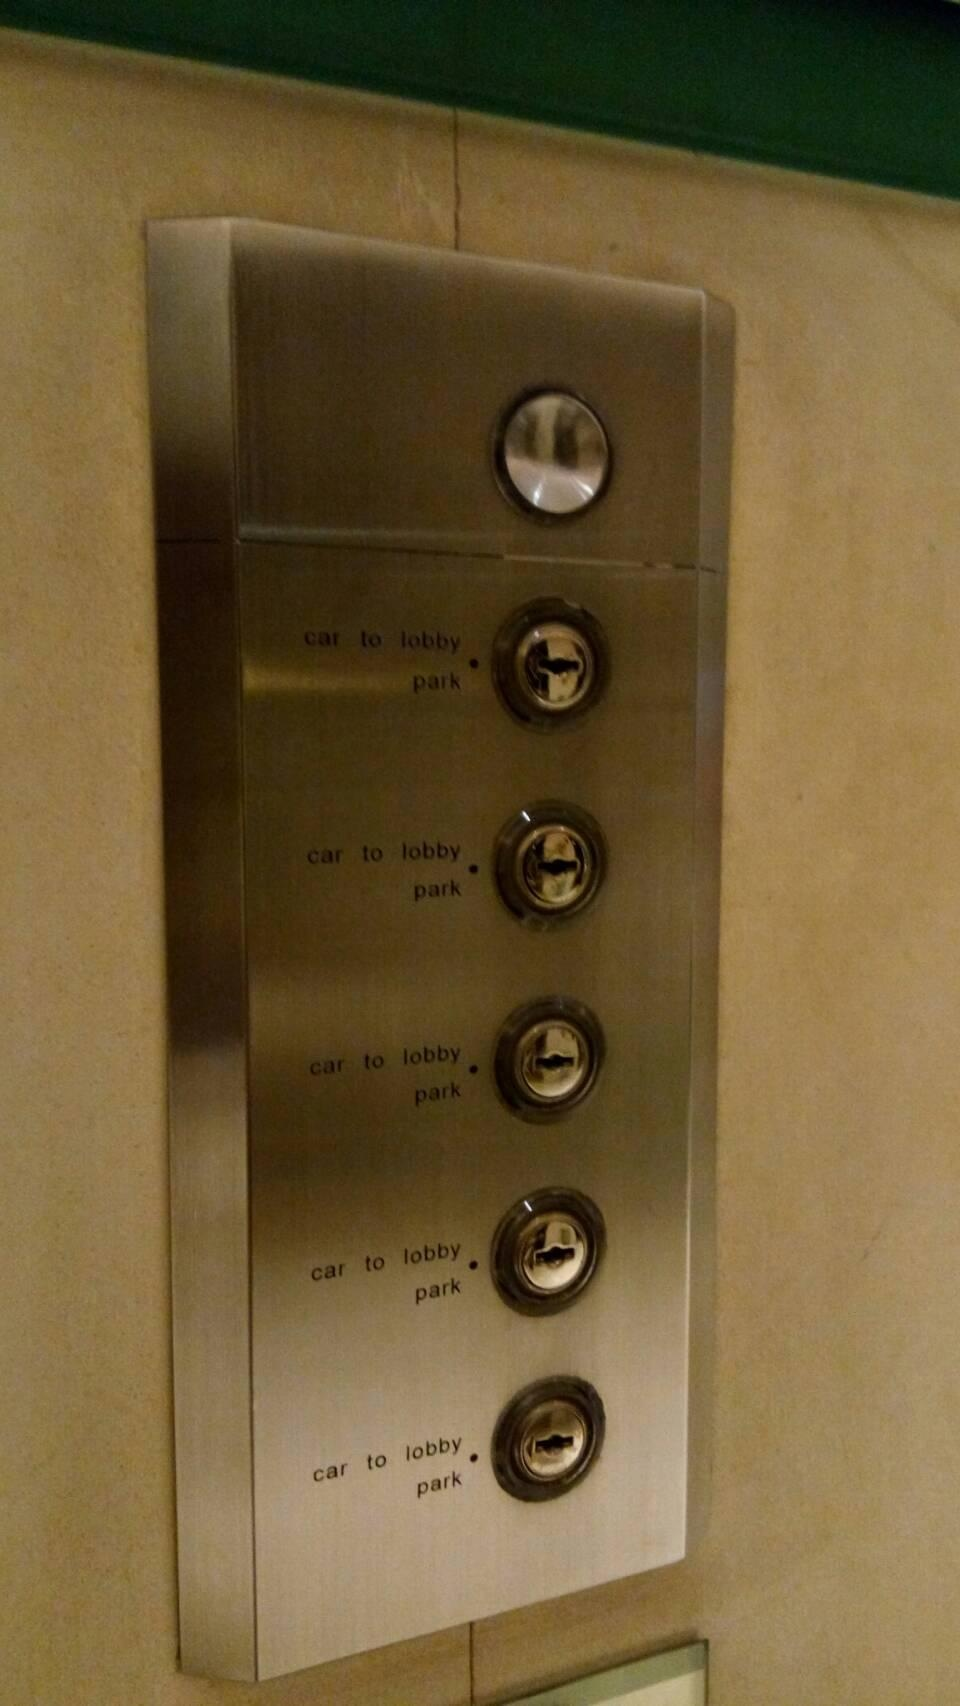empty: (490, 382, 615, 526)
keyhole: (492, 595, 613, 736), (490, 796, 612, 930), (488, 1185, 608, 1318), (491, 994, 610, 1122), (490, 1376, 607, 1504)
